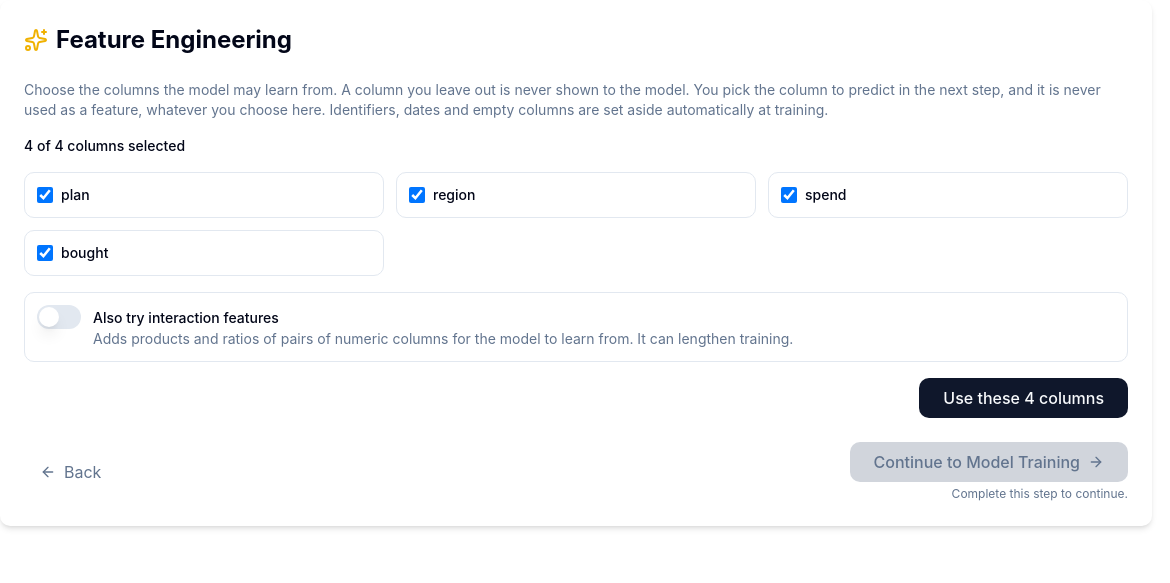
Feature Engineering page › will not record fewer than two columns
The image size is (1170, 583).
Click the checkbox labelled "plan" at (45, 195), box [37,187,53,203]
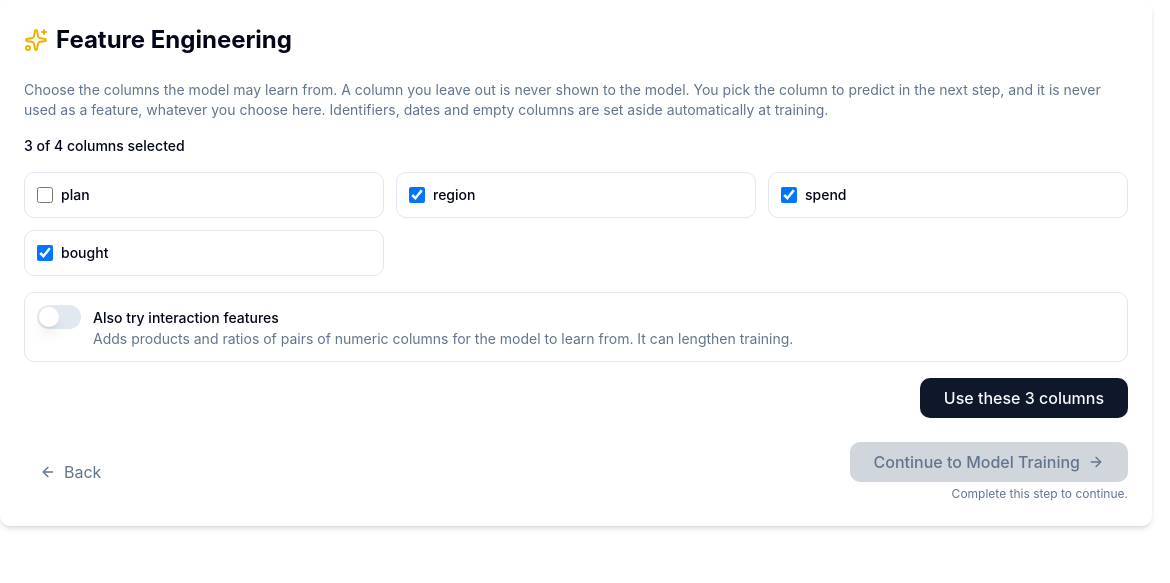
Click the checkbox labelled "region" at (417, 195), box [409,187,425,203]
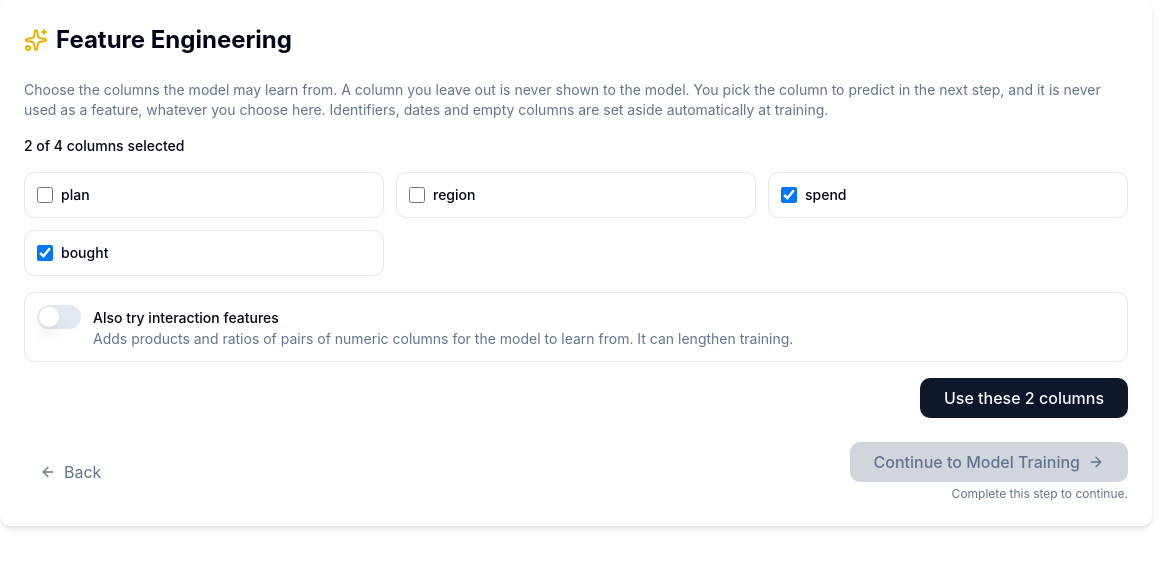
Click the checkbox labelled "spend" at (789, 195), box [781,187,797,203]
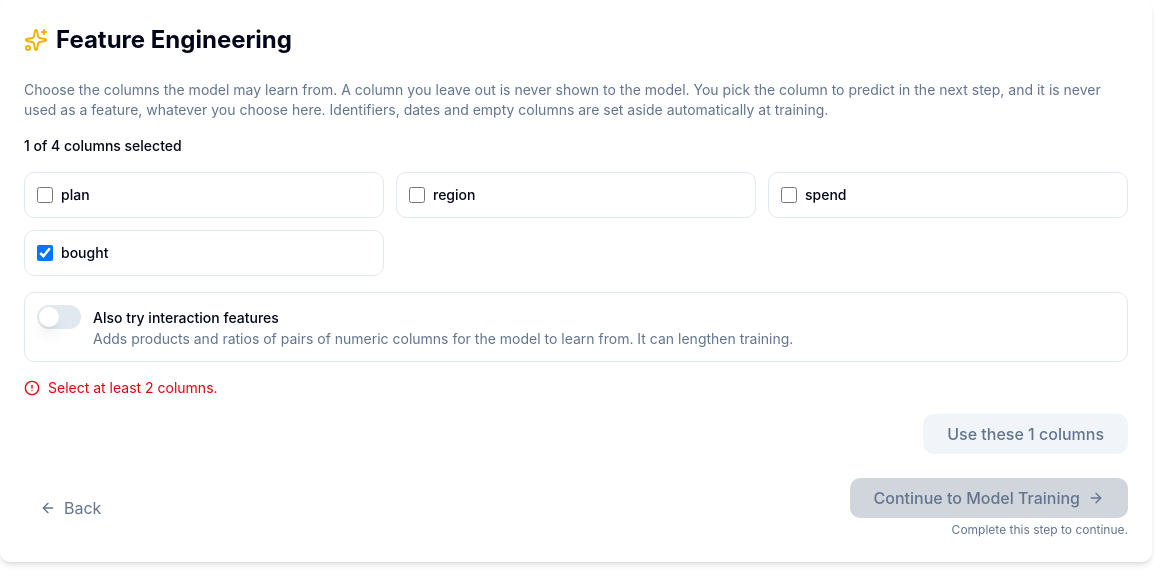
Now the text "Select at least 2 columns." is shown, box [24,379,218,396]
Now the button "Use these 1 columns" is disabled, box [923,414,1128,454]
